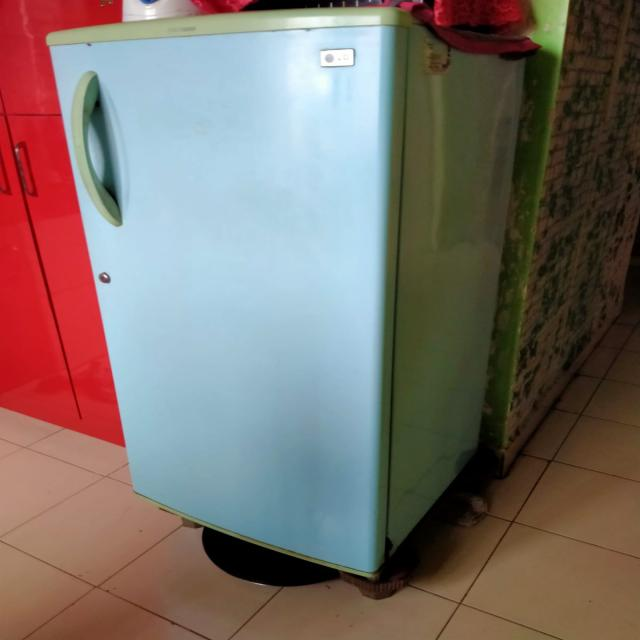Fridge: (46, 5, 542, 580)
